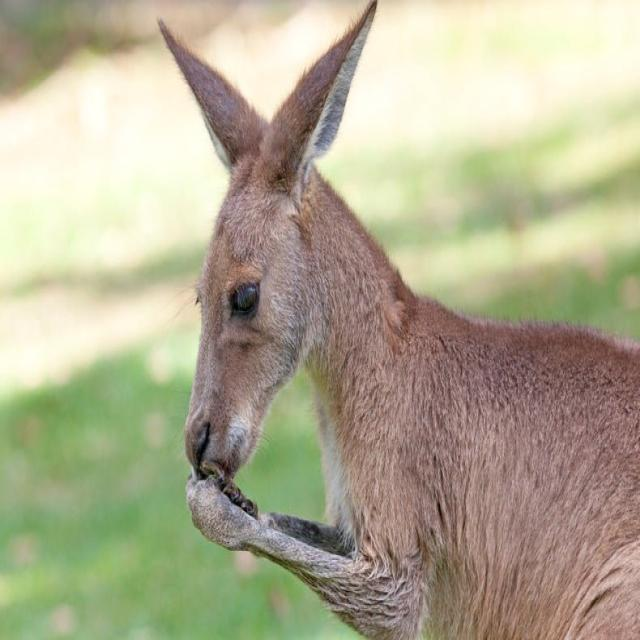Kangaroo: (153, 0, 640, 640)
